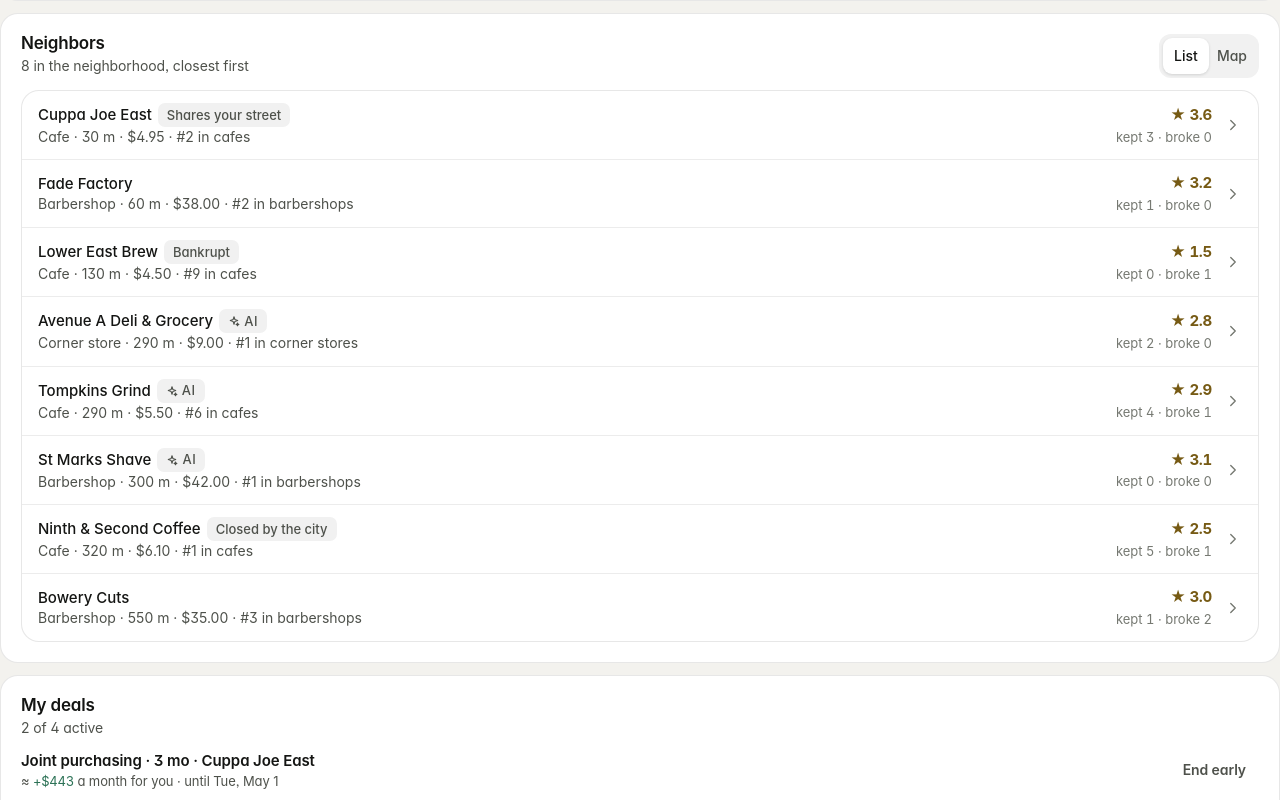
Network tab: propose a deal builds the right Action › joint purchasing with a cafe
The width and height of the screenshot is (1280, 800).
(page scrolled)
Click the button "Tompkins Grind" at (94, 390), box [22,366,1258,435]
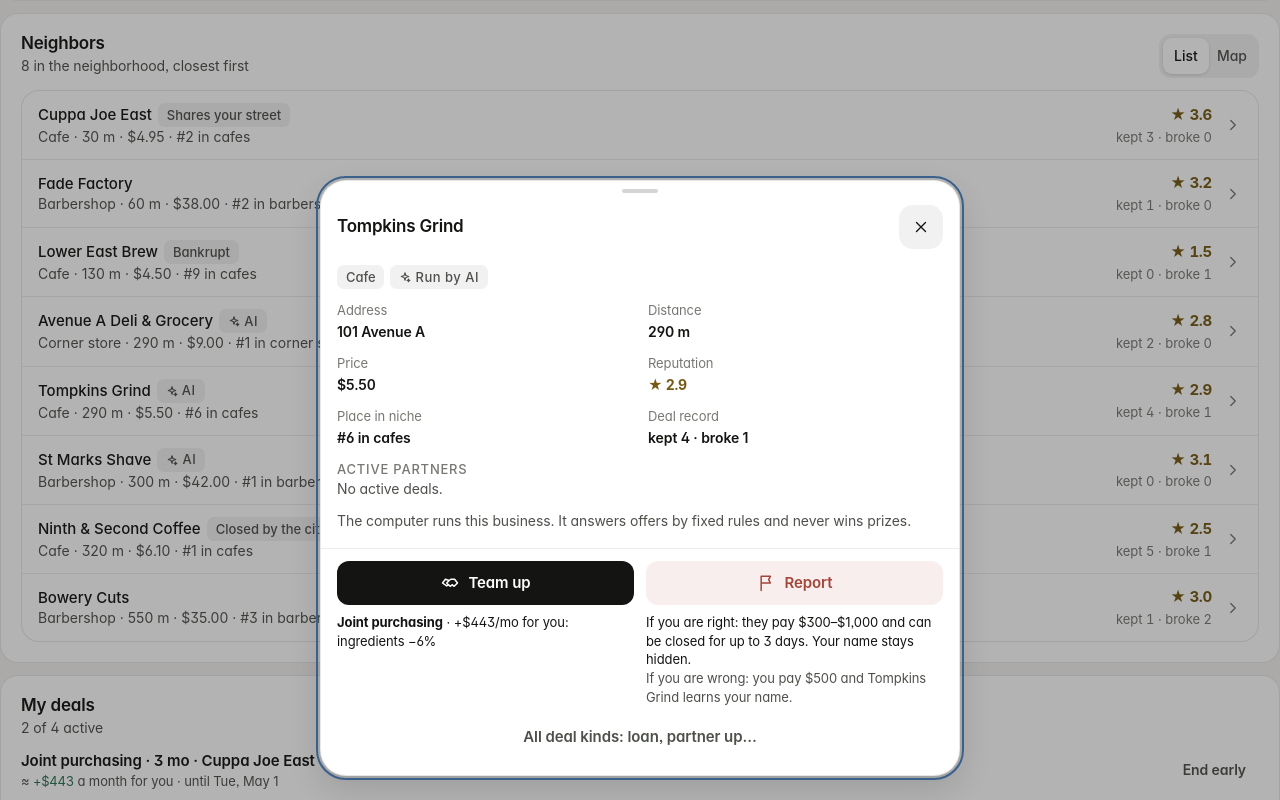
Click the button "All deal kinds: loan, partner up…" at (640, 737), box [337,715,943,759]
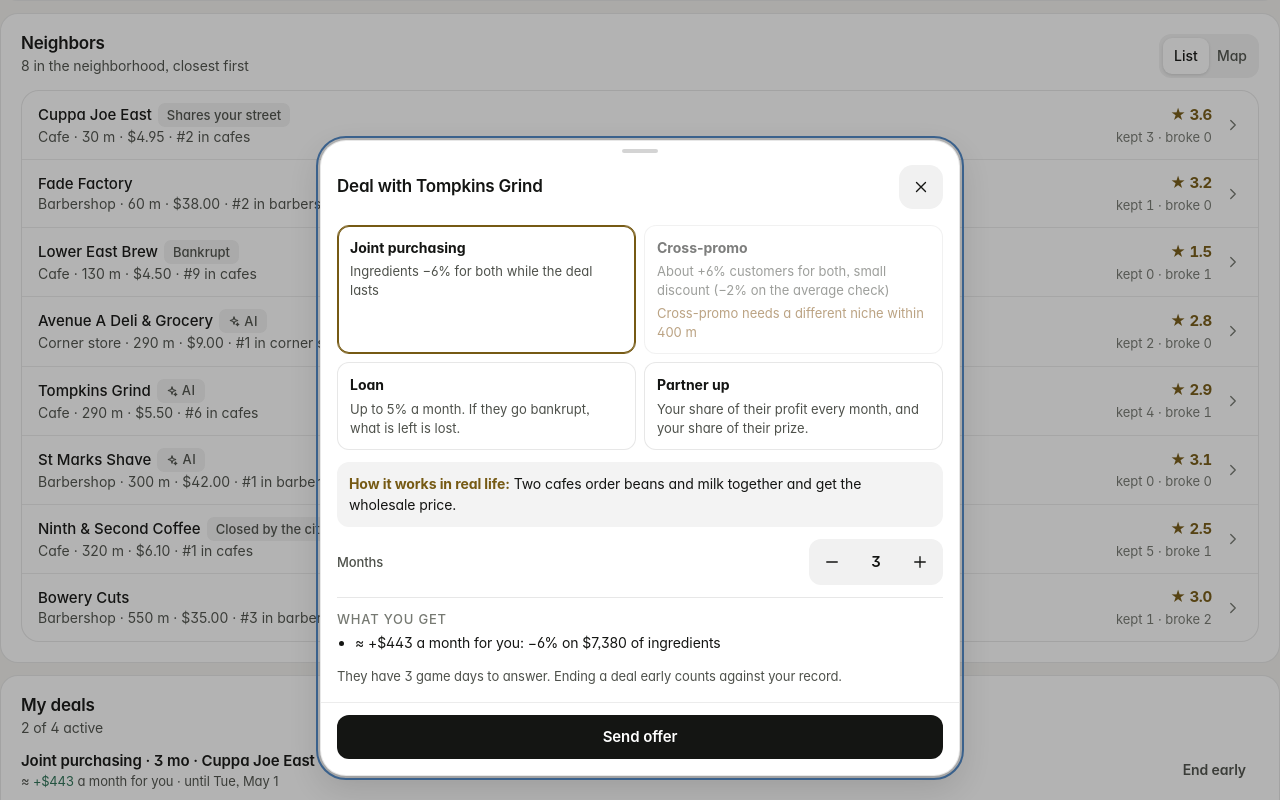
Expected: the dialog "Deal with Tompkins Grind" shows "Ingredients −6% for both while the deal lasts", [337,225,636,354]
Click the button named "Increase Months" at (920, 562), box [898,540,942,584]
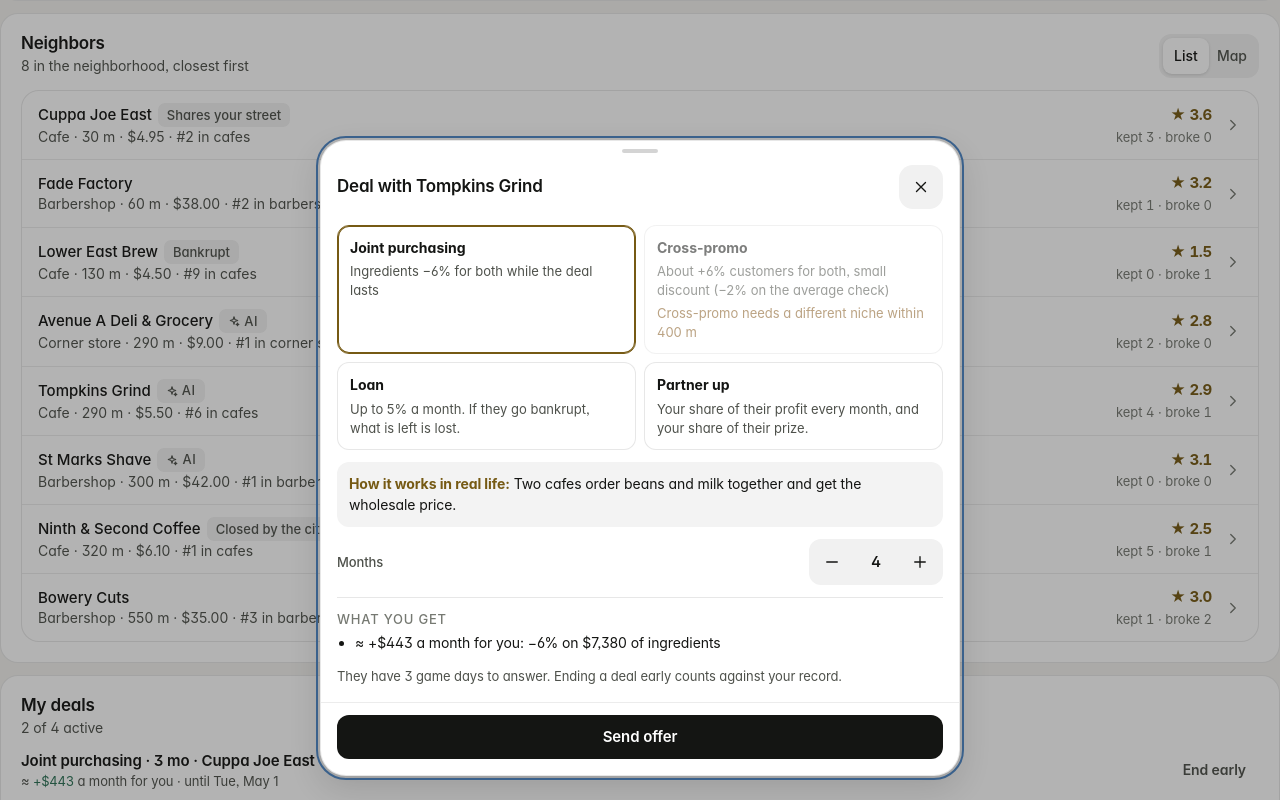
Click the button "Send offer" at (640, 737), box [337,715,943,759]
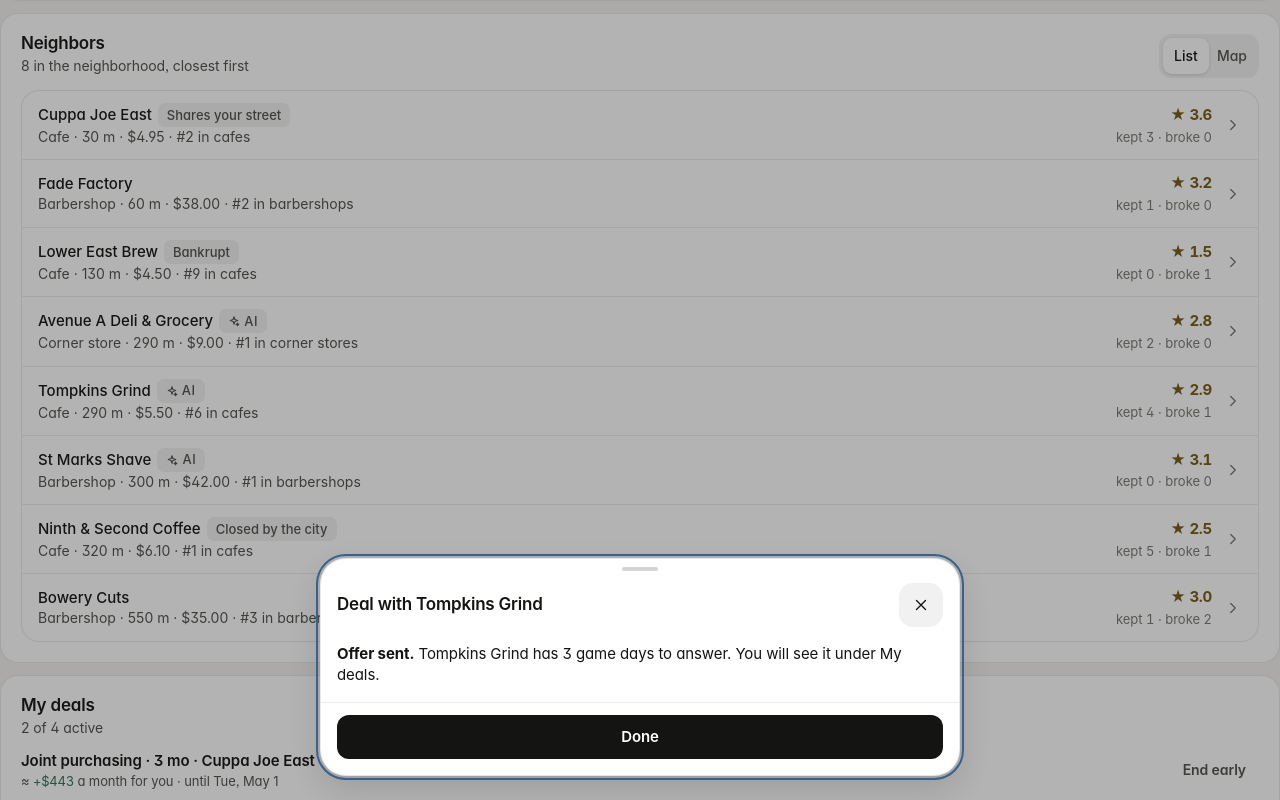
Expected: the message shows "Offer sent", [337,644,414,662]
